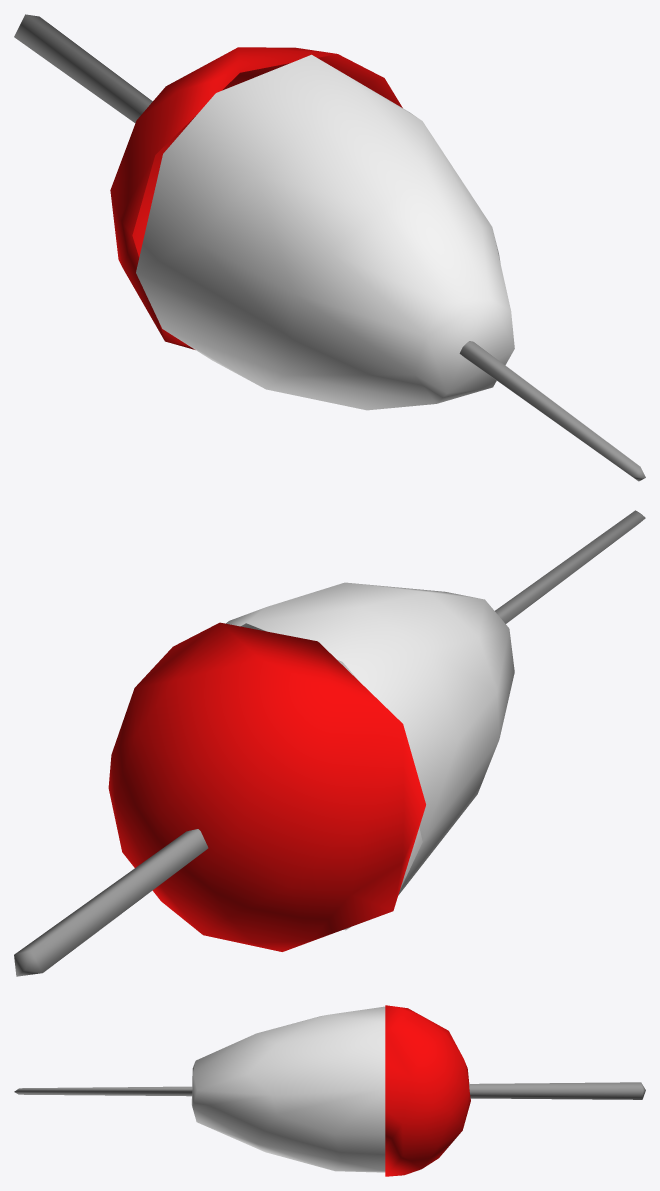
File: Bobber.fbx
The picture shows the model from 3 angles, top to bottom: view 1: azimuth 30°, elevation 25°; view 2: azimuth 150°, elevation 25°; view 3: azimuth 270°, elevation 25°; orthographic projection. The views are drawn at different scales.
Parts seen in each view (by area): view 1: Float.003; view 2: Float.003; view 3: Float.003.
Part boxes in pixels (bbox=[...]): Float.003: bbox=[14, 14, 645, 481]; Float.003: bbox=[14, 510, 645, 976]; Float.003: bbox=[14, 1005, 645, 1176].
Bounding box in the file's own units: 3113 × 3089 × 11406.
